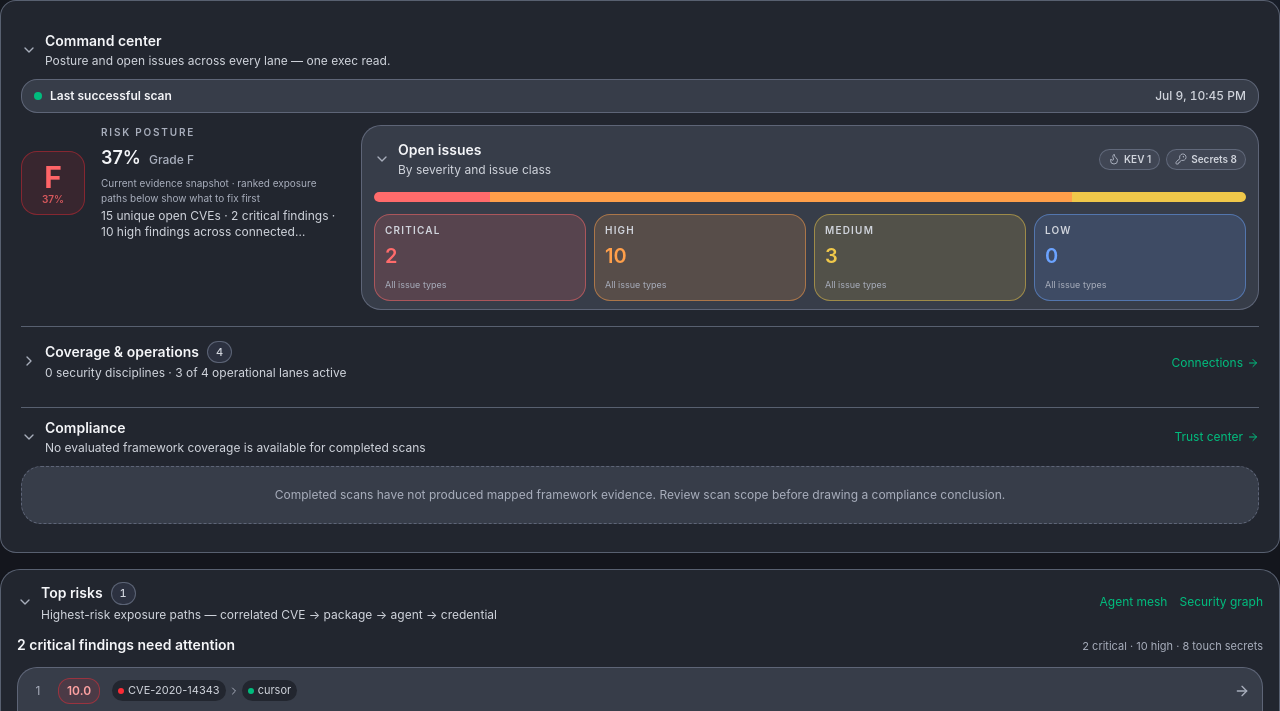
Test: OverviewCockpit › consolidates security coverage and estate operations into one compact section
Expected: the element with test id "overview-coverage-operations" is shown, [21,326,1259,391]
Click the button "Coverage & operations" at coordinates (122, 351), box [21,340,1164,381]
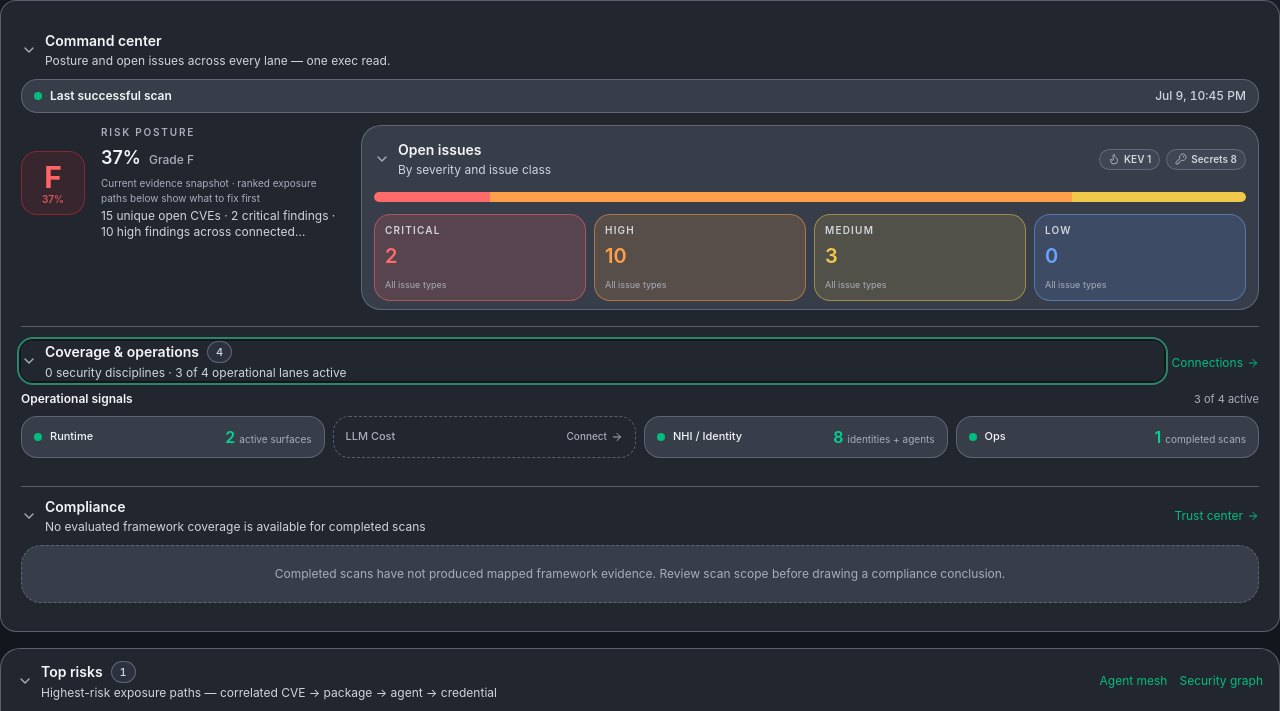
Expected: the text "Runtime" is shown, [50,428,93,445]
Expected: the text "NHI / Identity" is shown, [673,428,742,445]
Expected: the text "Ops" is shown, [984,428,1006,445]
